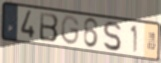1: (129, 24, 138, 54)
4: (20, 10, 36, 41)
6: (83, 16, 100, 50)
B: (39, 11, 60, 43)
G: (60, 14, 81, 47)
S: (102, 20, 122, 52)
